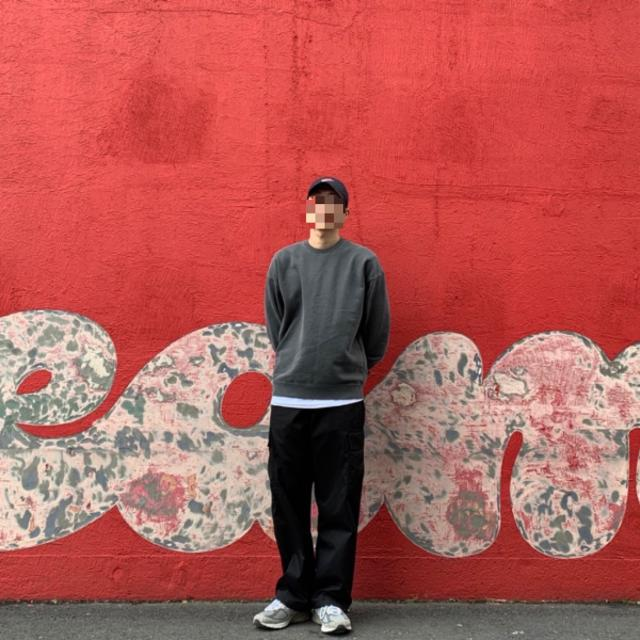mtm: (262, 237, 388, 398)
slacks: (269, 399, 364, 614)
